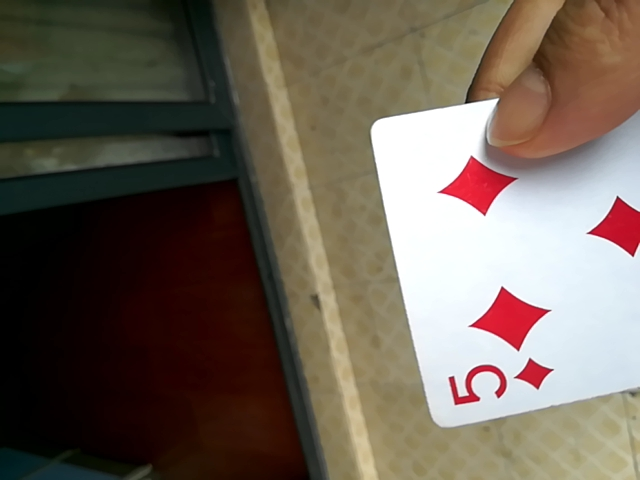fk 5: (358, 80, 640, 432)
